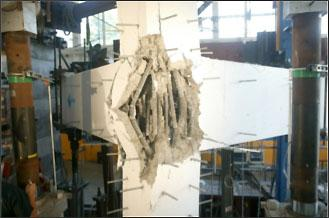spalling: (112, 33, 203, 184)
